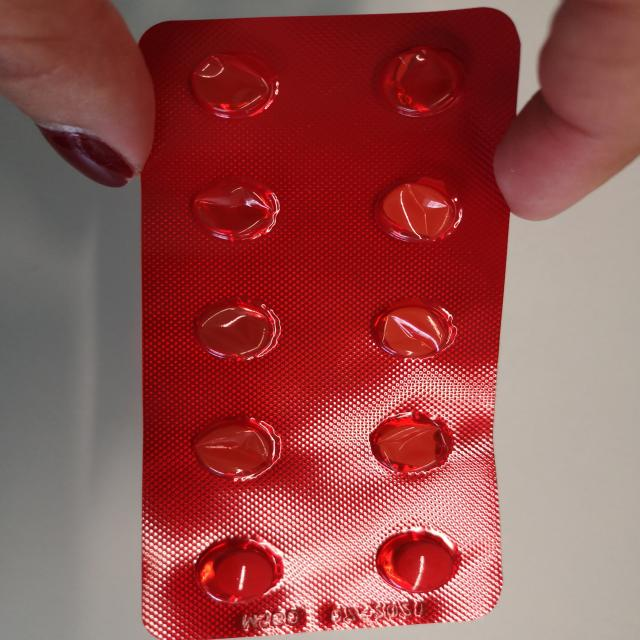Empty: (368, 34, 475, 122), (176, 42, 288, 123), (174, 169, 286, 250), (355, 406, 464, 486), (355, 290, 467, 366), (366, 168, 466, 248), (183, 406, 282, 486), (187, 294, 286, 369)
Pill: (357, 520, 467, 598), (189, 532, 297, 608)
